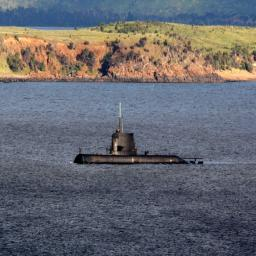submarine: (71, 101, 205, 165)
